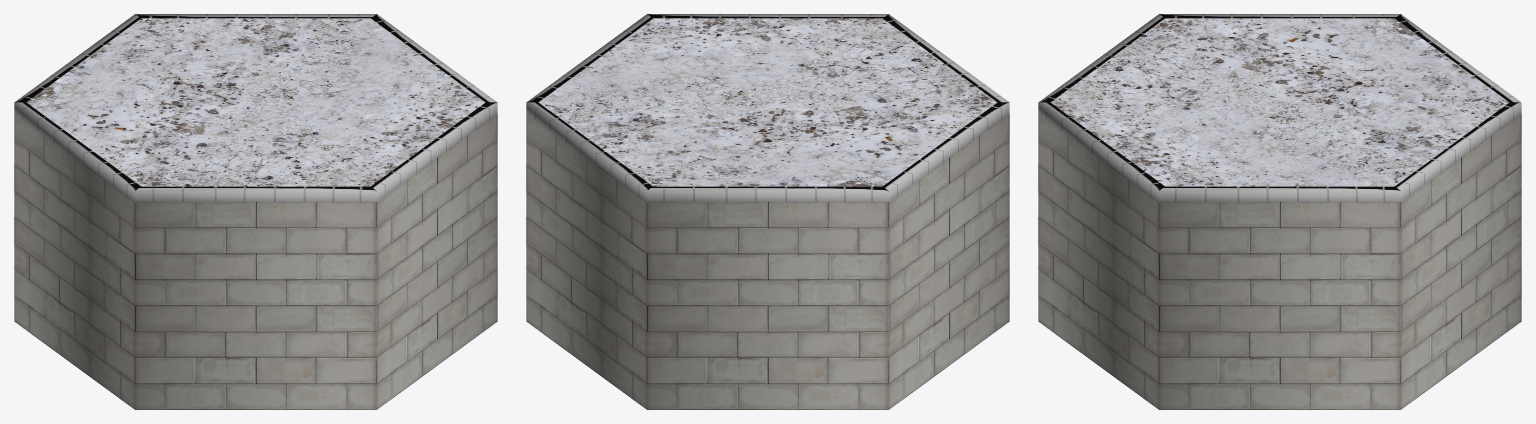
Rendered from hex_pillar.obj.
3 renders of one model, left to right at view 1: azimuth 30°, elevation 25°; view 2: azimuth 150°, elevation 25°; view 3: azimuth 270°, elevation 25°, orthographic.
Parts seen in each view (by area): view 1: hex_pillar; view 2: hex_pillar; view 3: hex_pillar.
Boxes of the visible parts, <box> form: hex_pillar: <box>14,14,497,409</box>; hex_pillar: <box>526,14,1009,409</box>; hex_pillar: <box>1038,14,1521,409</box>.
Bounding box in the file's own units: 1.73 × 1 × 2.
Materials: 1 (1 with a texture image).
